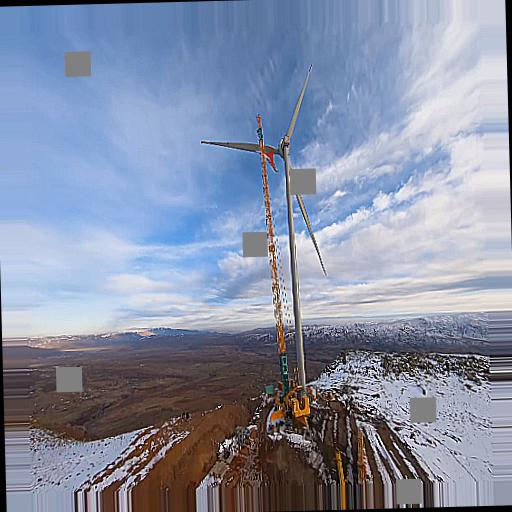wind turbine: (197, 63, 328, 404)
